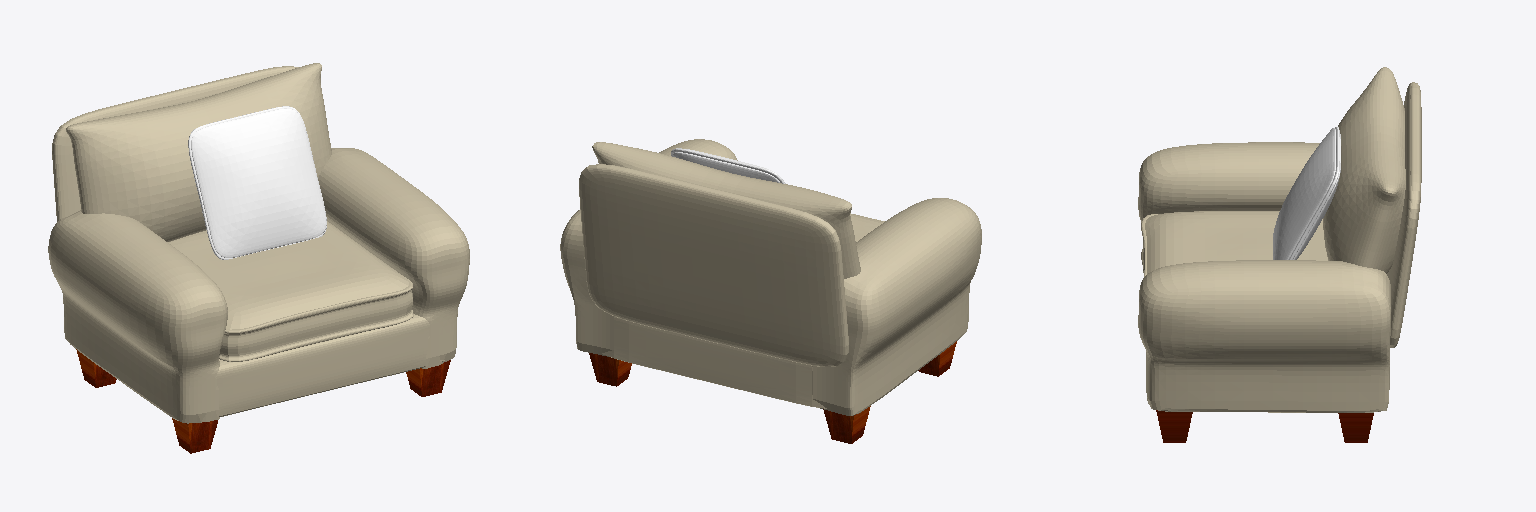
3 renders of one model, left to right at view 1: azimuth 30°, elevation 25°; view 2: azimuth 150°, elevation 25°; view 3: azimuth 270°, elevation 25°, orthographic.
Visible parts, largest first — view 1: PolyMesh_3, PolyMesh_1, PolyMesh_4, PolyMesh_2_1, PolyMesh_3_1, PolyMesh_2, PolyMesh_1_1, PolyMesh_5_1, PolyMesh_5_2, PolyMesh_5; view 2: PolyMesh_1_1, PolyMesh_3, PolyMesh_2, PolyMesh_1, PolyMesh_3_1, PolyMesh_2_1, PolyMesh_5, PolyMesh_5_3, PolyMesh_5_1; view 3: PolyMesh_3_1, PolyMesh_1, PolyMesh_3, PolyMesh_4, PolyMesh_2_1, PolyMesh_1_1, PolyMesh_5_2, PolyMesh_5_3.
Part boxes in pixels (bbox=[...]): PolyMesh_3: bbox=[48, 210, 227, 423]; PolyMesh_1: bbox=[66, 63, 331, 241]; PolyMesh_4: bbox=[168, 221, 413, 361]; PolyMesh_2_1: bbox=[188, 106, 326, 259]; PolyMesh_3_1: bbox=[318, 148, 469, 368]; PolyMesh_2: bbox=[216, 314, 444, 416]; PolyMesh_1_1: bbox=[52, 66, 298, 221]; PolyMesh_5_1: bbox=[172, 418, 217, 453]; PolyMesh_5_2: bbox=[406, 360, 450, 396]; PolyMesh_5: bbox=[76, 349, 116, 387]; PolyMesh_1_1: bbox=[579, 164, 848, 366]; PolyMesh_3: bbox=[812, 198, 981, 415]; PolyMesh_2: bbox=[602, 316, 826, 408]; PolyMesh_1: bbox=[592, 142, 860, 278]; PolyMesh_3_1: bbox=[560, 139, 737, 356]; PolyMesh_2_1: bbox=[671, 148, 785, 183]; PolyMesh_5: bbox=[823, 406, 870, 443]; PolyMesh_5_3: bbox=[589, 353, 631, 386]; PolyMesh_5_1: bbox=[918, 341, 956, 376]; PolyMesh_3_1: bbox=[1138, 260, 1390, 412]; PolyMesh_1: bbox=[1323, 67, 1405, 273]; PolyMesh_3: bbox=[1138, 142, 1319, 222]; PolyMesh_4: bbox=[1141, 211, 1327, 278]; PolyMesh_2_1: bbox=[1273, 127, 1340, 259]; PolyMesh_1_1: bbox=[1387, 82, 1421, 347]; PolyMesh_5_2: bbox=[1156, 410, 1192, 442]; PolyMesh_5_3: bbox=[1338, 413, 1373, 442].
Bounding box in the file's own units: 1 × 0.7411 × 0.7615.
3 materials, 1 textured.